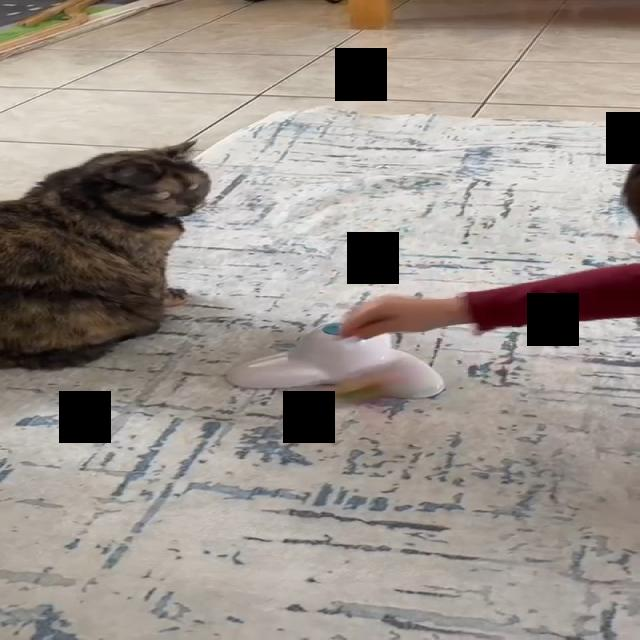authorized: (0, 137, 211, 370)
